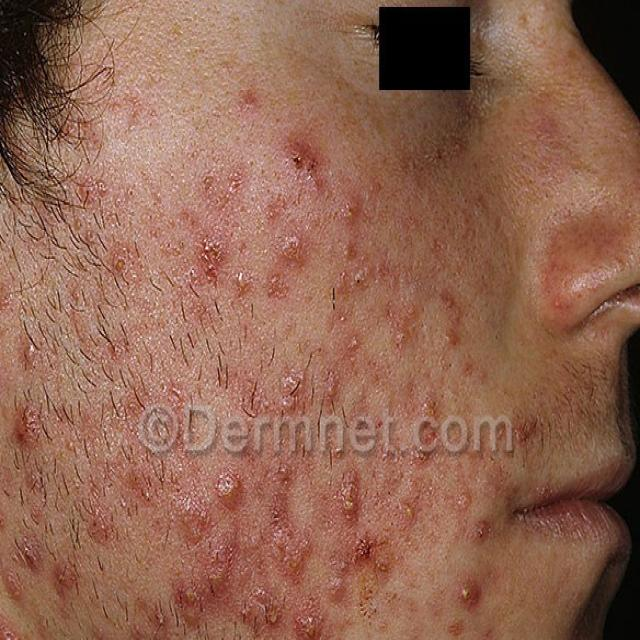Acne: (0, 77, 565, 640)
